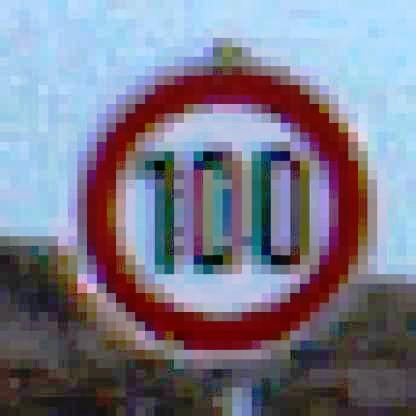Speed Limit -100-: (72, 63, 374, 363)
